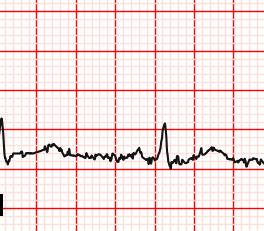Poor R Progression: (153, 120, 173, 164)
